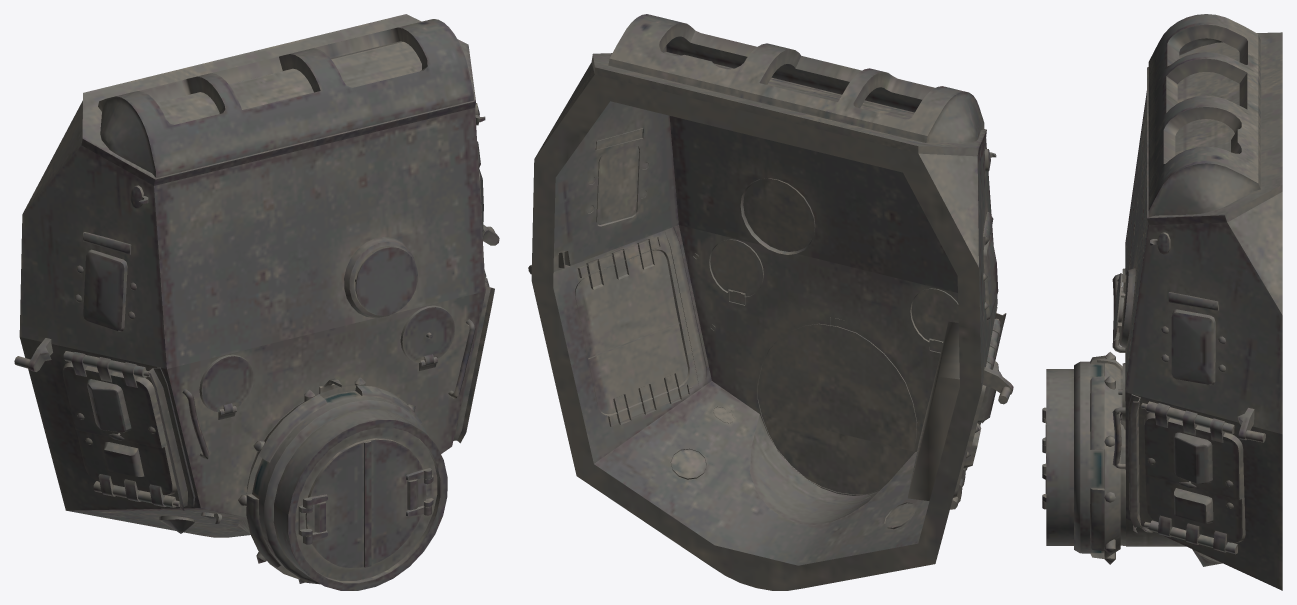
File: Turret_02.glb
3 renders of one model, left to right at view 1: azimuth 30°, elevation 25°; view 2: azimuth 150°, elevation 25°; view 3: azimuth 270°, elevation 25°, orthographic. The views are drawn at different scales.
Visible parts, largest first — view 1: set_0_group_0; view 2: set_0_group_0; view 3: set_0_group_0.
Part boxes in pixels (<box>): set_0_group_0: <box>14,14,499,590</box>; set_0_group_0: <box>528,14,1013,590</box>; set_0_group_0: <box>1042,14,1282,590</box>.
Size of the model in its own units: 1.98 by 1.99 by 0.8958.
1 material, 1 textured.
